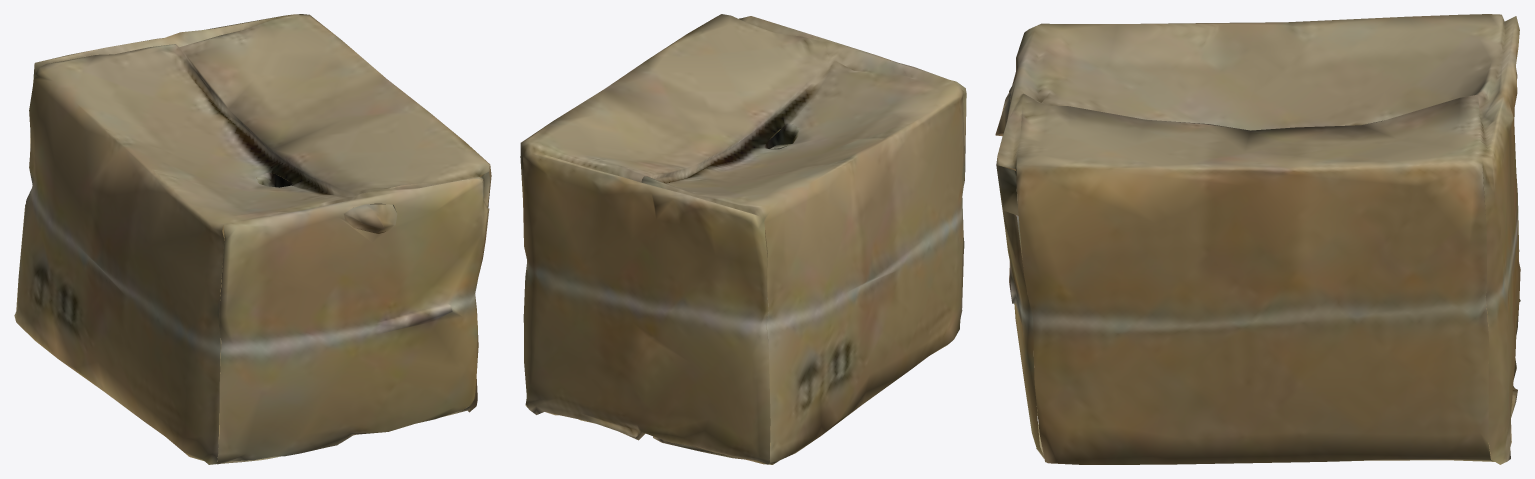
Rendered from cardboard_box.glb.
3 renders of one model, left to right at view 1: azimuth 30°, elevation 25°; view 2: azimuth 150°, elevation 25°; view 3: azimuth 270°, elevation 25°, orthographic. The views are drawn at different scales.
Visible parts, largest first — view 1: cardboard_box_01; view 2: cardboard_box_01; view 3: cardboard_box_01.
Part boxes in pixels (bbox=[...]): cardboard_box_01: bbox=[14, 14, 491, 464]; cardboard_box_01: bbox=[520, 14, 966, 464]; cardboard_box_01: bbox=[995, 14, 1520, 464].
Size of the model in its own units: 0.3872 by 0.3406 by 0.5151.
Materials: 1 (1 with a texture image).
